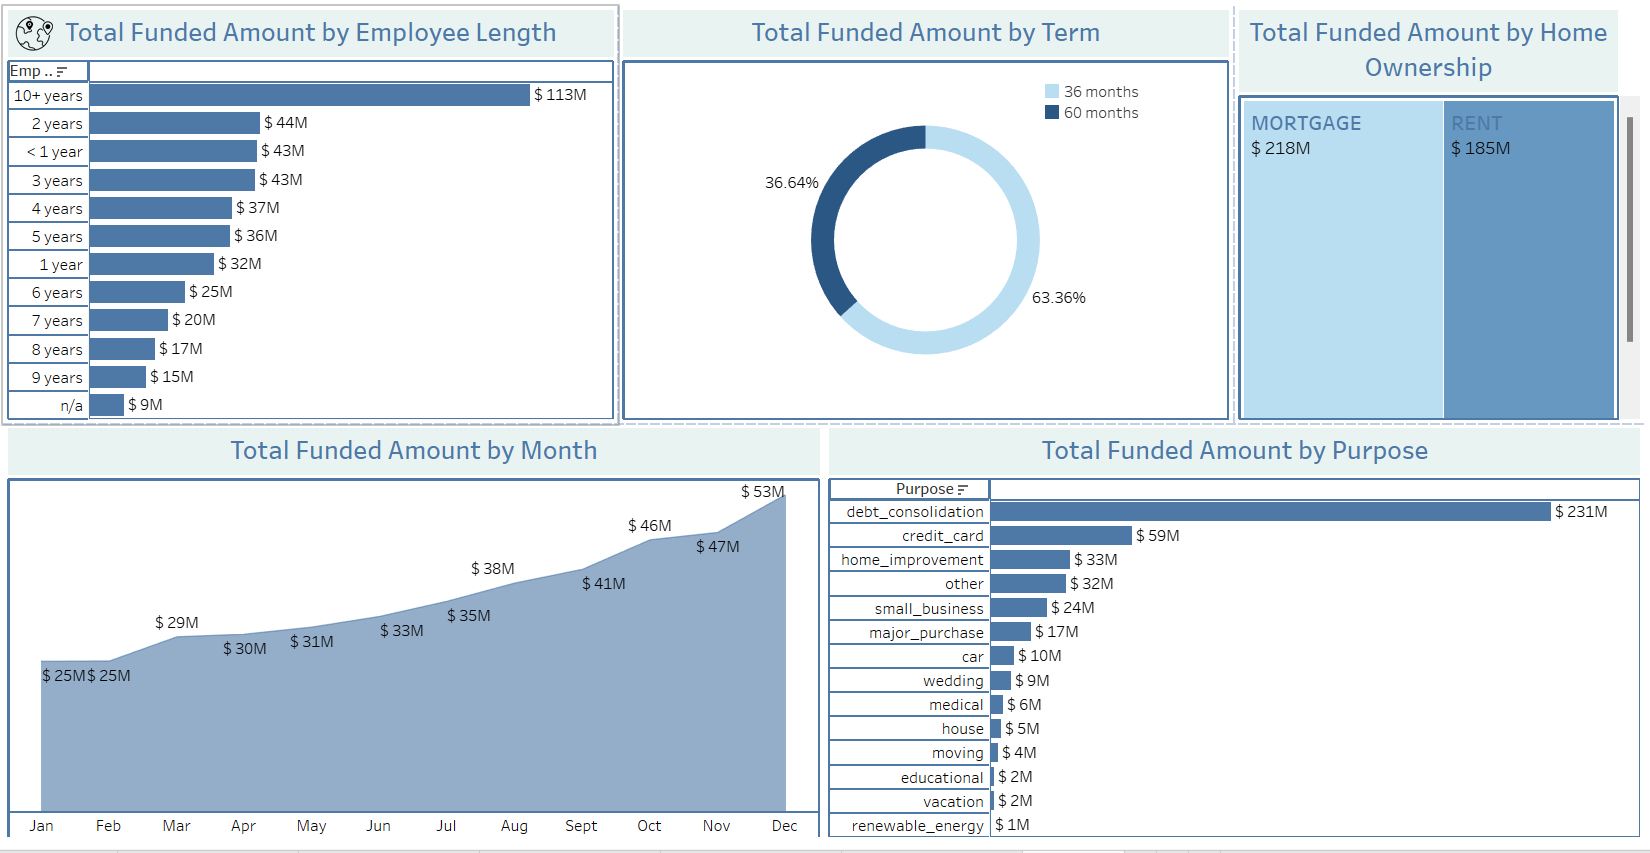

The page's visual inventory and layout, read from the dashboard file:
{"tool":"tableau","page":{"name":"Overwiew","canvas":[1000,1000],"units":"permille","ordinal":6},"visuals":[{"type":"worksheet","title":"Total funded by len","mark":"Bar","rows":["Emp Length"],"cols":["Funded Amnt"],"box":[4.8,9.4,371.3,490.6]},{"type":"worksheet","title":"Total funded by term","mark":"Pie","rows":["Calculation_1721219546770649088","Calculation_1721219546770649088"],"box":[376.2,9.4,371.4,490.6]},{"type":"worksheet","title":"Total funded by ownership","mark":"Automatic","box":[747.6,9.4,247.6,490.6]},{"type":"dashboard-object","box":[9.7,18.8,27.8,44.6]},{"type":"legend","title":"Total funded by term","param":"[federated.01wpg030iqr8s214rfoyq1plr8mg].[none:Term:nk]","box":[631.9,97.5,84.5,75.2]},{"type":"worksheet","title":"Total funded by month","mark":"Area","rows":["Funded Amnt"],"cols":["Issue D"],"box":[4.8,500,495.2,490.6]},{"type":"worksheet","title":"Total funded by purpose","mark":"Bar","rows":["Purpose"],"cols":["Funded Amnt"],"box":[500,500,495.2,490.6]}]}

Visuals, with their boxes on the dashboard's canvas, which has no fixed pixel size, in thousandths of its width and height (x1, y1, x2, y2). These are canvas units, not pixel positions in the 1650x853 screenshot, which may show the page scaled, cropped or inside an application window:
"Total funded by len" worksheet (Bar marks): select_region(5, 9, 376, 500)
"Total funded by term" worksheet (Pie marks): select_region(376, 9, 748, 500)
"Total funded by ownership" worksheet: select_region(748, 9, 995, 500)
dashboard-object: select_region(10, 19, 38, 63)
"Total funded by term" legend: select_region(632, 98, 716, 173)
"Total funded by month" worksheet (Area marks): select_region(5, 500, 500, 991)
"Total funded by purpose" worksheet (Bar marks): select_region(500, 500, 995, 991)
